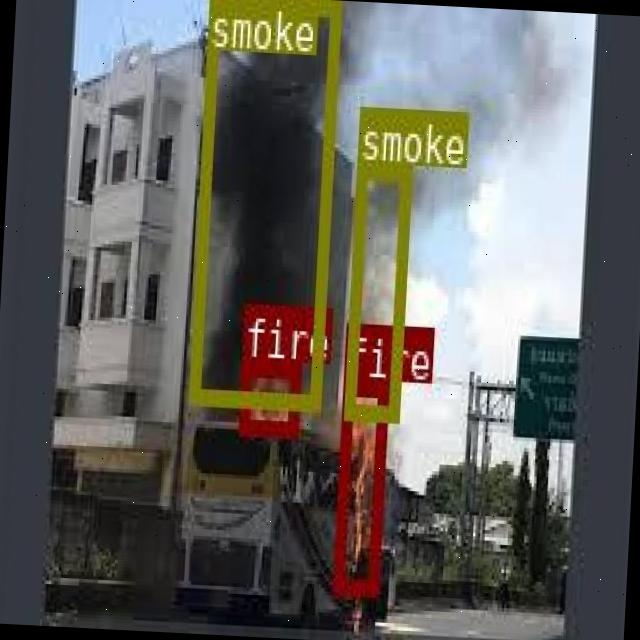fire: (331, 377, 386, 594), (239, 357, 299, 434)
smoke: (188, 0, 337, 409), (343, 162, 409, 418)
